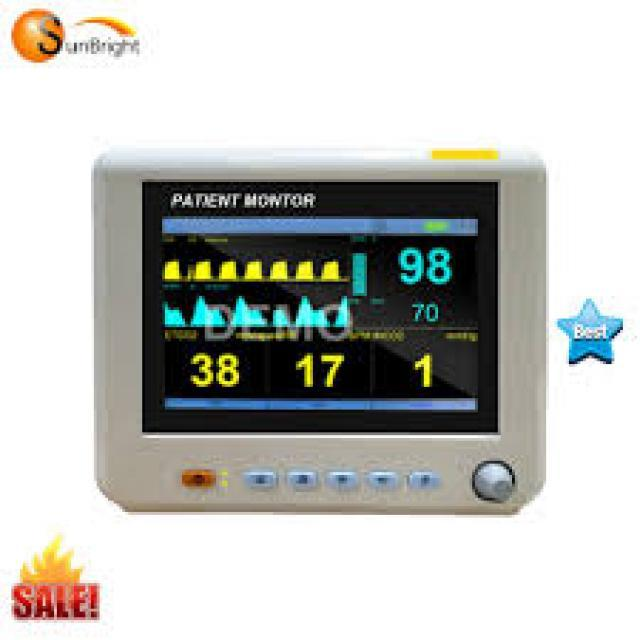cardiac_monitor: (91, 157, 546, 522)
